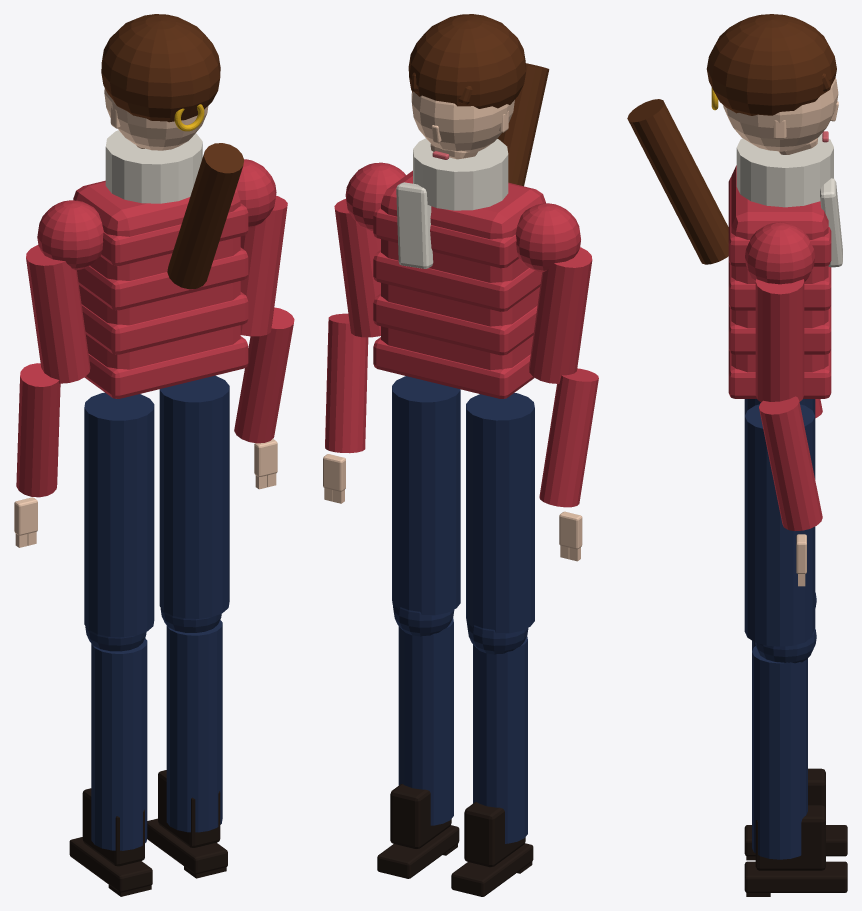
File: Customer_Female.obj
The picture shows the model from 3 angles, left to right: view 1: azimuth 30°, elevation 25°; view 2: azimuth 150°, elevation 25°; view 3: azimuth 270°, elevation 25°; orthographic projection.
Visible parts, largest first — view 1: Fem_Thigh_L, Fem_Thigh_R, Fem_Calf_R, Fem_Calf_L, Fem_JacketCore, Fem_HairCrown, Fem_UpperArm_L, Fem_Ponytail, Fem_ScarfLoop, Fem_ForeArm_L, Fem_ForeArm_R, Fem_Rib_1.14 (+15 smaller); view 2: Fem_Thigh_L, Fem_Thigh_R, Fem_JacketCore, Fem_Calf_R, Fem_Calf_L, Fem_HairCrown, Fem_UpperArm_L, Fem_ForeArm_L, Fem_ForeArm_R, Fem_ScarfLoop, Fem_Rib_1.14, Fem_Rib_1.23 (+16 smaller); view 3: Fem_Thigh_R, Fem_Calf_R, Fem_HairCrown, Fem_Ponytail, Fem_UpperArm_R, Fem_ForeArm_R, Fem_ScarfLoop, Fem_JacketCore, Fem_Shoulder_R, Fem_Cranium, Fem_BootSole_R, Fem_Boot_R (+8 smaller).
Part boxes in pixels (left/top/right/bottom): Fem_Thigh_L: left=84, top=392, right=154, bottom=637; Fem_Thigh_R: left=159, top=375, right=229, bottom=618; Fem_Calf_R: left=166, top=620, right=222, bottom=832; Fem_Calf_L: left=91, top=638, right=147, bottom=850; Fem_JacketCore: left=73, top=180, right=240, bottom=369; Fem_HairCrown: left=101, top=14, right=220, bottom=122; Fem_UpperArm_L: left=26, top=245, right=90, bottom=383; Fem_Ponytail: left=167, top=143, right=243, bottom=289; Fem_ScarfLoop: left=105, top=130, right=202, bottom=203; Fem_ForeArm_L: left=16, top=363, right=60, bottom=497; Fem_ForeArm_R: left=234, top=307, right=294, bottom=443; Fem_Rib_1.14: left=81, top=292, right=248, bottom=354; Fem_Thigh_L: left=466, top=393, right=534, bottom=633; Fem_Thigh_R: left=392, top=376, right=460, bottom=615; Fem_JacketCore: left=381, top=170, right=545, bottom=370; Fem_Calf_R: left=398, top=617, right=453, bottom=825; Fem_Calf_L: left=473, top=636, right=527, bottom=843; Fem_HairCrown: left=408, top=14, right=525, bottom=108; Fem_UpperArm_L: left=529, top=247, right=592, bottom=383; Fem_ForeArm_L: left=539, top=368, right=598, bottom=507; Fem_ForeArm_R: left=325, top=313, right=368, bottom=453; Fem_ScarfLoop: left=413, top=138, right=508, bottom=210; Fem_Rib_1.14: left=373, top=293, right=537, bottom=355; Fem_Rib_1.23: left=373, top=250, right=541, bottom=311; Fem_Thigh_R: left=744, top=404, right=815, bottom=646; Fem_Calf_R: left=752, top=646, right=807, bottom=859; Fem_HairCrown: left=706, top=14, right=836, bottom=115; Fem_Ponytail: left=627, top=99, right=728, bottom=264; Fem_UpperArm_R: left=755, top=279, right=804, bottom=402; Fem_ForeArm_R: left=759, top=396, right=822, bottom=530; Fem_ScarfLoop: left=736, top=134, right=833, bottom=207; Fem_JacketCore: left=731, top=165, right=828, bottom=372; Fem_Shoulder_R: left=745, top=222, right=815, bottom=284; Fem_Cranium: left=723, top=78, right=838, bottom=151; Fem_BootSole_R: left=744, top=861, right=847, bottom=892; Fem_Boot_R: left=755, top=805, right=825, bottom=870.
Bounding box in the file's own units: 0.573 × 1.74 × 0.4071.
